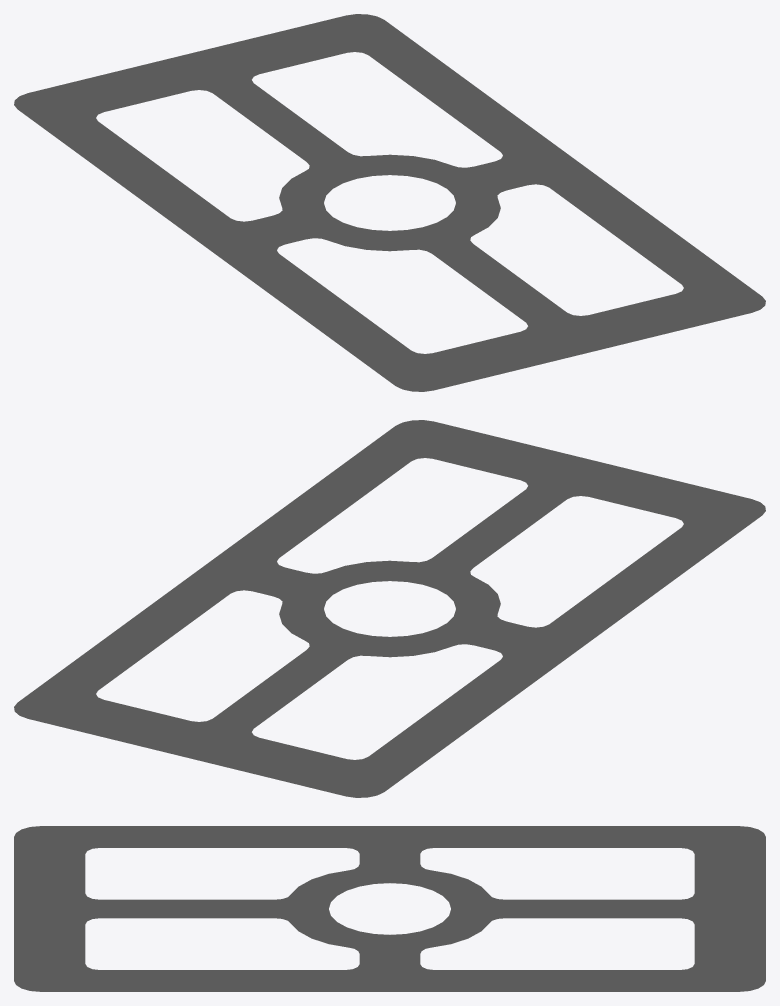
File: Town-map-Load.fbx
The picture shows the model from 3 angles, top to bottom: view 1: azimuth 30°, elevation 25°; view 2: azimuth 150°, elevation 25°; view 3: azimuth 270°, elevation 25°; orthographic projection. The views are drawn at different scales.
Parts seen in each view (by area): view 1: Town-map-Load; view 2: Town-map-Load; view 3: Town-map-Load.
Boxes of the visible parts, bbox=[...] form: Town-map-Load: bbox=[14, 14, 765, 391]; Town-map-Load: bbox=[14, 420, 765, 797]; Town-map-Load: bbox=[14, 826, 765, 991].
Bounding box in the file's own units: 22.34 × 5.63e-14 × 42.82.
